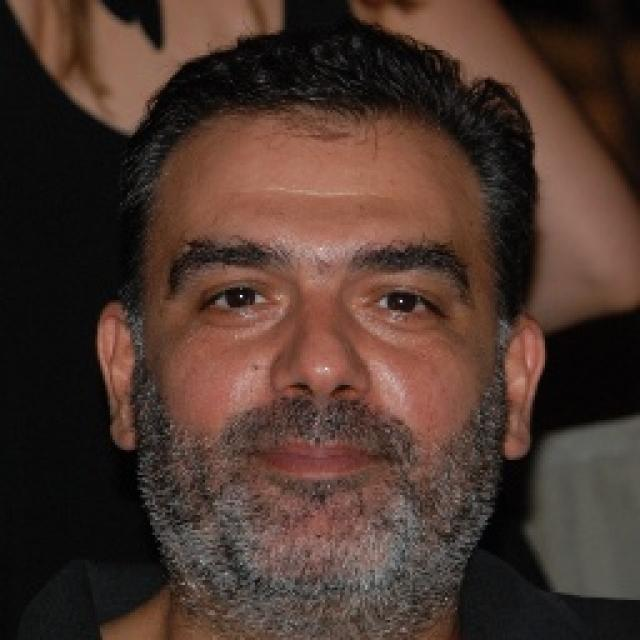earlobe: (108, 419, 144, 452), (503, 425, 534, 462)
eye: (372, 288, 438, 320), (211, 282, 269, 314)
nose: (276, 386, 366, 430)
wholeear: (503, 312, 550, 464), (98, 301, 144, 453)
